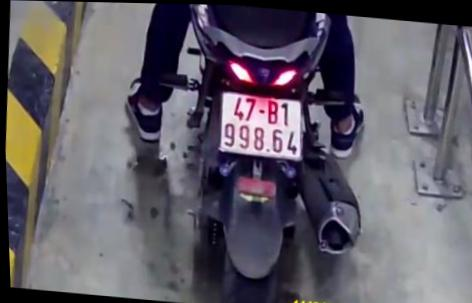LP: (213, 87, 308, 162)
